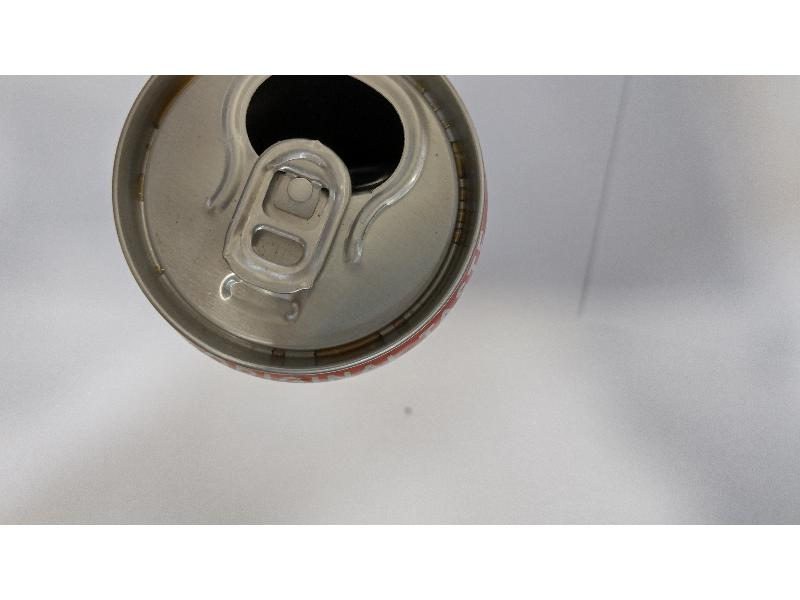can: (102, 76, 502, 393)
